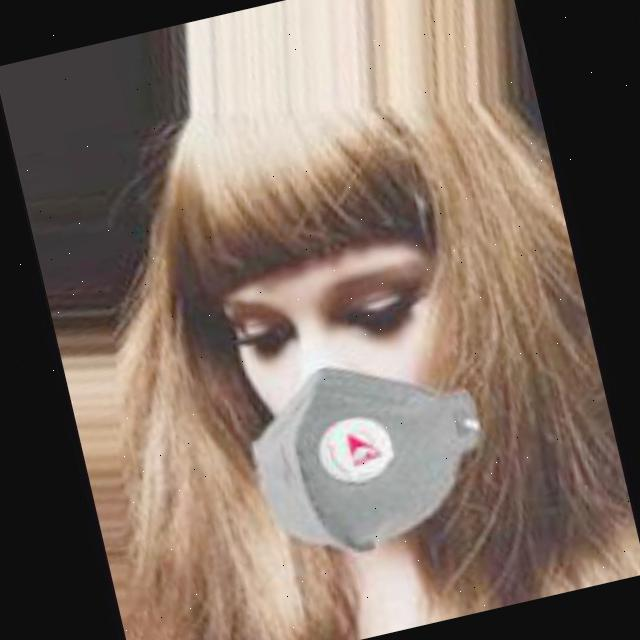suspicion: (171, 185, 556, 574)
